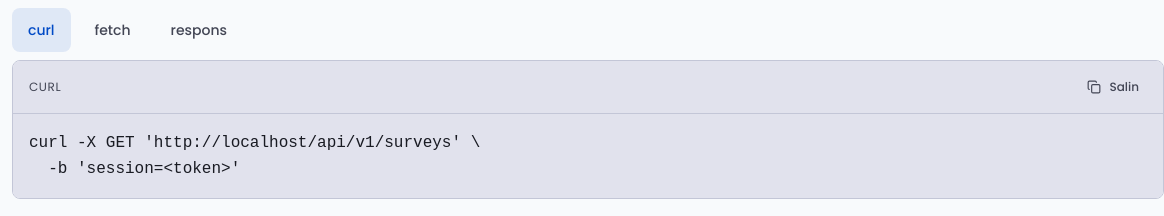
TabSnippet › melaporkan kegagalan salin, tidak diam saja
The width and height of the screenshot is (1164, 216).
Click the button with aria-label "salin snippet curl": point(1113, 87) [1080,65,1147,109]
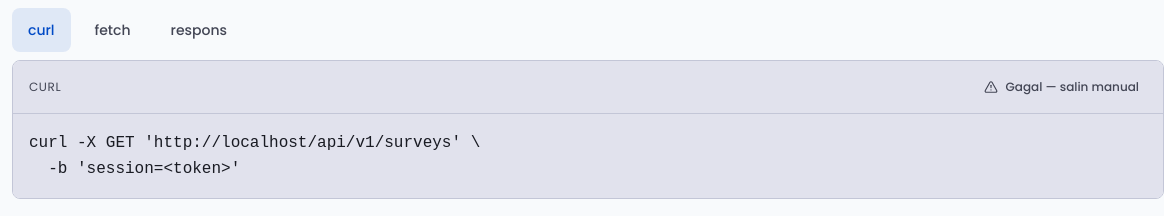
Result: the button "Gagal — salin manual" is shown at [976,65,1147,109]
